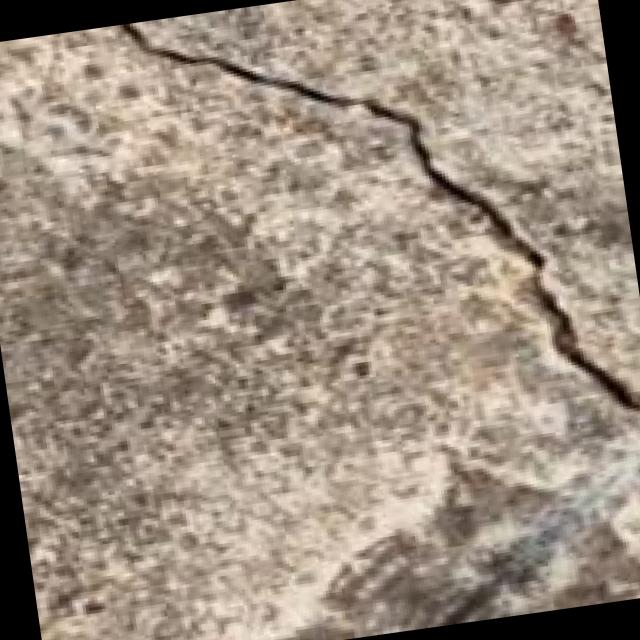crack: (124, 0, 640, 478)
